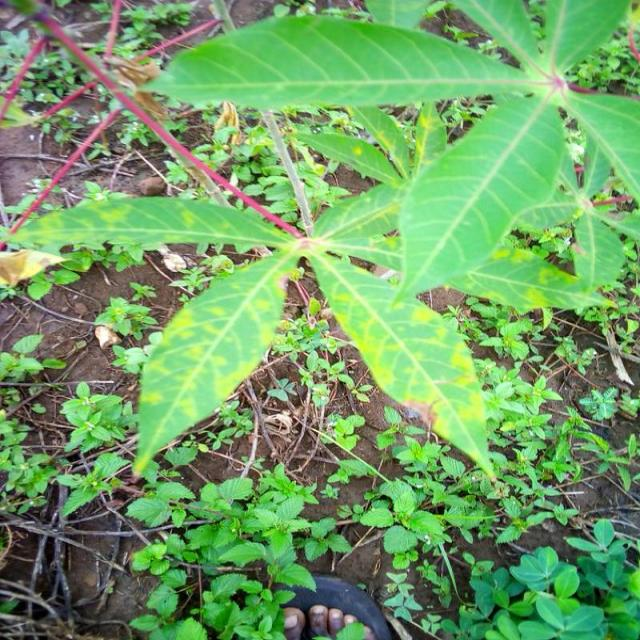cassava leaf: (6, 1, 638, 483), (131, 241, 303, 478), (395, 92, 582, 306), (137, 13, 538, 111)
